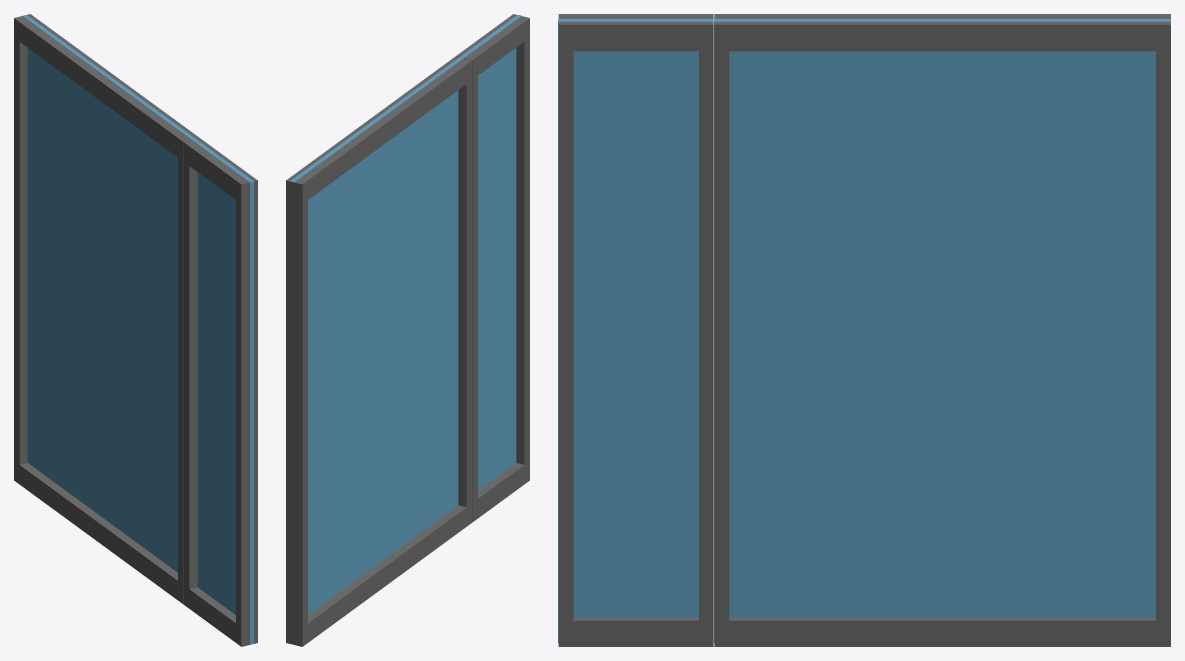
Rendered from wall small.fbx.
The picture shows the model from 3 angles, left to right: view 1: azimuth 30°, elevation 25°; view 2: azimuth 150°, elevation 25°; view 3: azimuth 270°, elevation 25°; orthographic projection. The views are drawn at different scales.
Parts seen in each view (by area): view 1: Rectangle178.002, Rectangle194.002, Rectangle177.002, Rectangle193.002; view 2: Rectangle178.002, Rectangle177.002, Rectangle194.002, Rectangle193.002; view 3: Rectangle178.002, Rectangle194.002, Rectangle177.002, Rectangle193.002.
Boxes of the visible parts, bbox=[...] form: Rectangle178.002: bbox=[22, 15, 195, 572]; Rectangle194.002: bbox=[192, 139, 253, 644]; Rectangle177.002: bbox=[14, 14, 199, 604]; Rectangle193.002: bbox=[184, 138, 257, 646]; Rectangle178.002: bbox=[290, 57, 463, 614]; Rectangle177.002: bbox=[286, 56, 471, 646]; Rectangle194.002: bbox=[460, 14, 521, 490]; Rectangle193.002: bbox=[456, 14, 529, 522]; Rectangle178.002: bbox=[714, 19, 1170, 642]; Rectangle194.002: bbox=[558, 19, 713, 643]; Rectangle177.002: bbox=[714, 14, 1170, 646]; Rectangle193.002: bbox=[558, 14, 713, 646].
Size of the model in its own units: 10 by 268 by 239.
